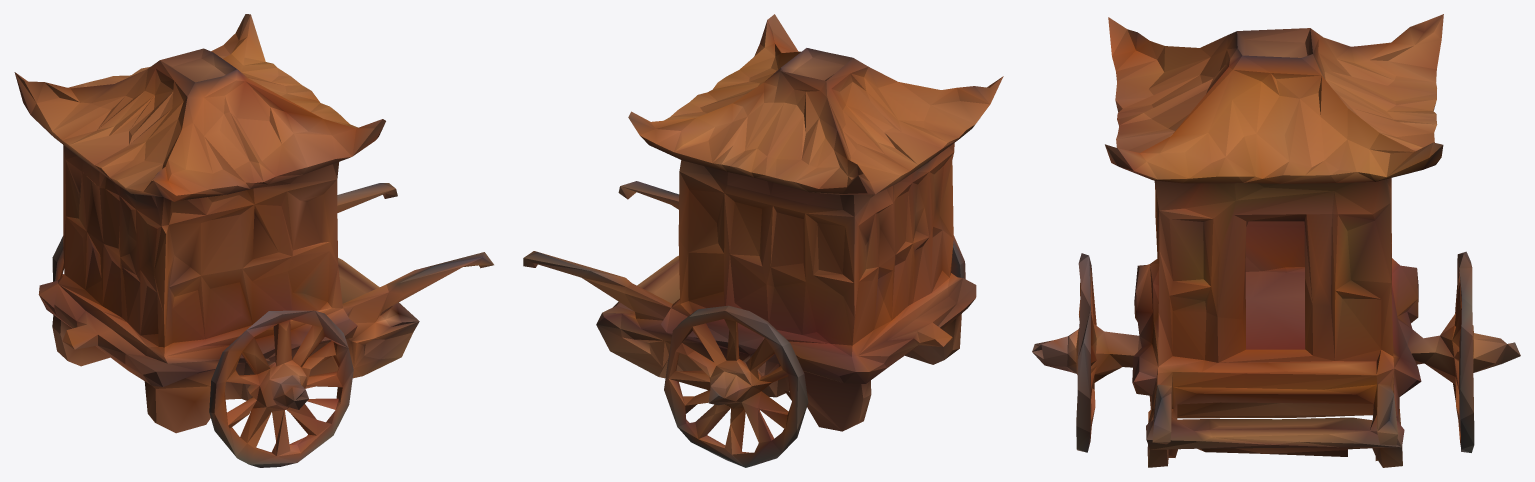
The model's file is lib_cart.vc2.glb.
3 renders of one model, left to right at view 1: azimuth 30°, elevation 25°; view 2: azimuth 150°, elevation 25°; view 3: azimuth 270°, elevation 25°, orthographic. The views are drawn at different scales.
Visible parts, largest first — view 1: lib_cart; view 2: lib_cart; view 3: lib_cart.
Part boxes in pixels (x1,y1,x2,y2): lib_cart: (14, 14, 493, 467); lib_cart: (523, 14, 1003, 467); lib_cart: (1032, 14, 1520, 467).
Bounding box in the file's own units: 1.96 × 1.71 × 1.88.
